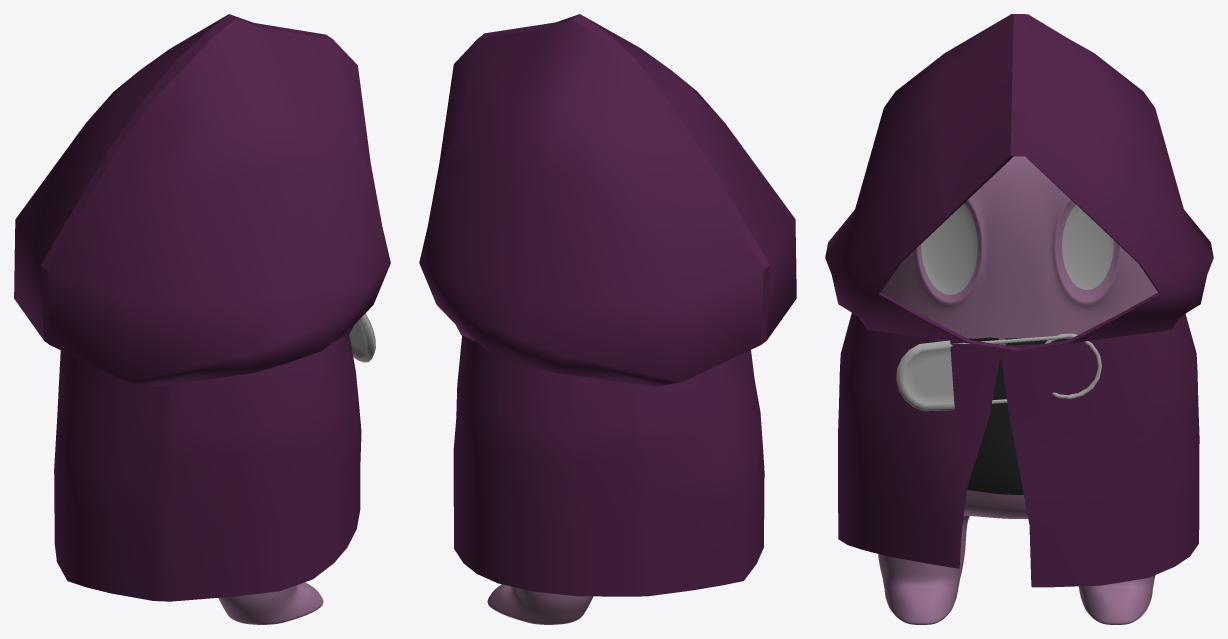
Rendered from dude.fbx.
The picture shows the model from 3 angles, left to right: view 1: azimuth 30°, elevation 25°; view 2: azimuth 150°, elevation 25°; view 3: azimuth 270°, elevation 25°; orthographic projection. The views are drawn at different scales.
Parts seen in each view (by area): view 1: pSphere14, pSphere15, pSphere11, pCylinder10; view 2: pSphere14, pSphere15, pSphere11; view 3: pSphere15, pSphere14, pSphere11, pCylinder10.
Boxes of the visible parts, x1=… form: pSphere14: x1=14, y1=14, x2=390, y2=386; pSphere15: x1=54, y1=335, x2=361, y2=601; pSphere11: x1=218, y1=582, x2=323, y2=624; pCylinder10: x1=349, y1=313, x2=375, y2=362; pSphere14: x1=419, y1=14, x2=796, y2=386; pSphere15: x1=453, y1=335, x2=764, y2=596; pSphere11: x1=487, y1=584, x2=593, y2=624; pSphere15: x1=838, y1=313, x2=1199, y2=587; pSphere14: x1=825, y1=14, x2=1213, y2=350; pSphere11: x1=878, y1=156, x2=1157, y2=624; pCylinder10: x1=896, y1=333, x2=1101, y2=411.
Bounding box in the file's own units: 12.13 × 20.93 × 12.44.
